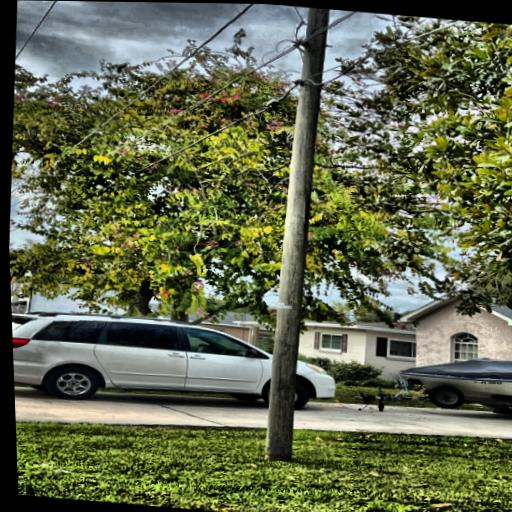pole: (233, 3, 360, 467)
